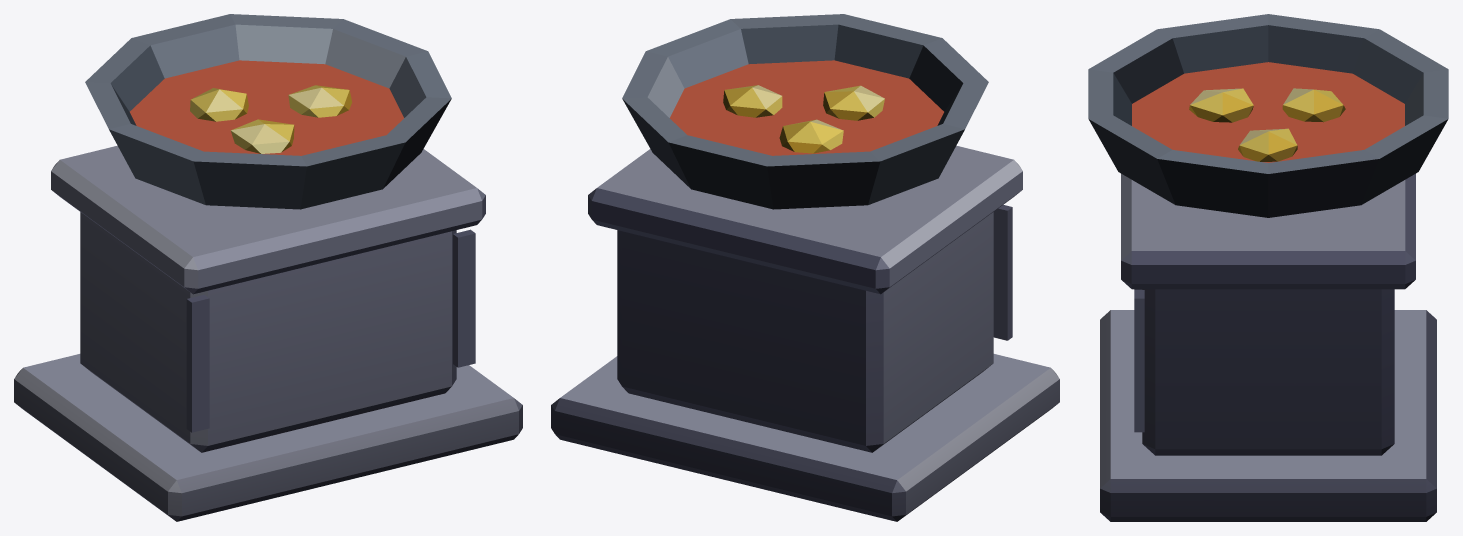
File: brazier.glb
3 views of the same model, side by side, from view 1: azimuth 30°, elevation 25°; view 2: azimuth 150°, elevation 25°; view 3: azimuth 270°, elevation 25° (orthographic). The views are drawn at different scales.
Visible parts, largest first — view 1: brazier; view 2: brazier; view 3: brazier.
Part boxes in pixels (x1,y1,x2,y2): brazier: (14,14,522,521); brazier: (551,14,1059,521); brazier: (1088,14,1448,521).
Bounding box in the file's own units: 0.8 × 0.72 × 0.6848.
